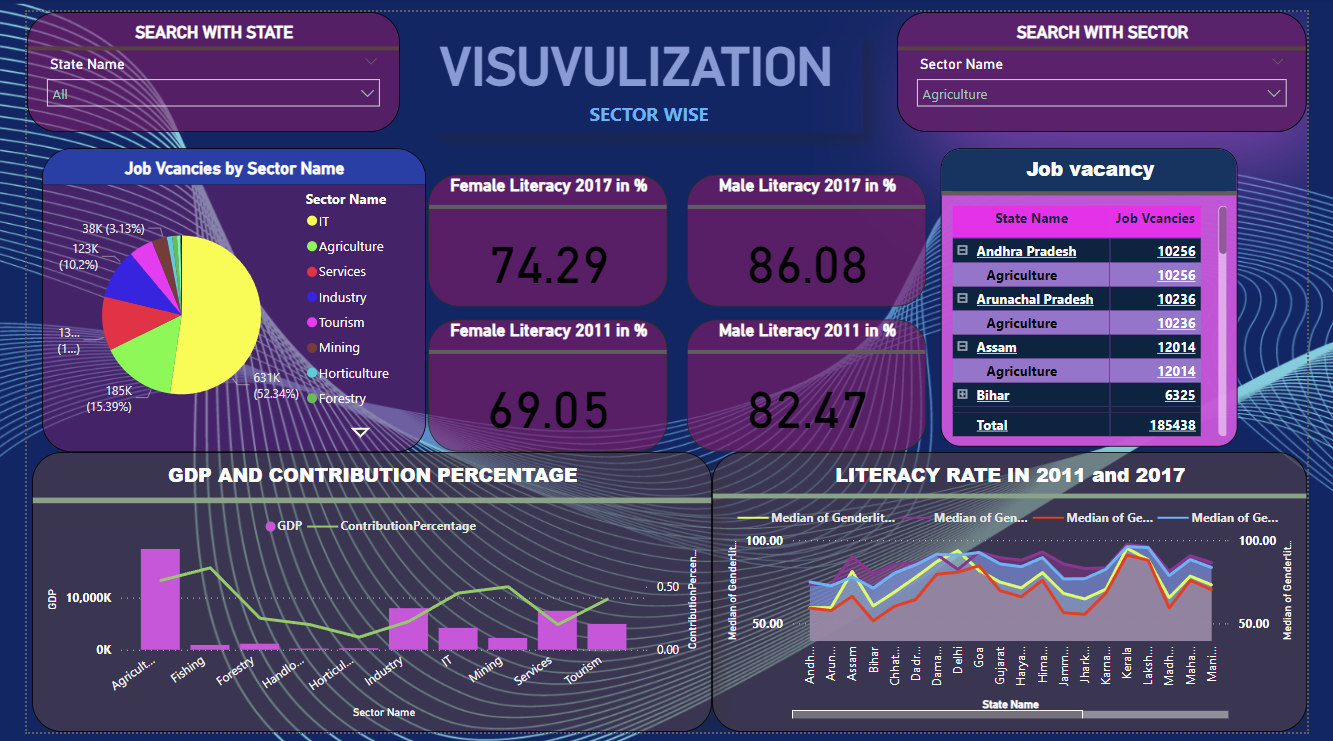

What the dashboard file says about the page in this screenshot:
{"tool":"powerbi","page":{"name":"Page 2","canvas":[1280,720],"ordinal":1},"visuals":[{"type":"slicer","title":"SEARCH WITH STATE","fields":{"Values":["states.State Name"]},"box":[0,0,372.8,119.8],"z":0},{"type":"pieChart","title":"Job Vcancies by Sector Name","fields":{"Category":["sectors.Sector Name"],"Y":["Sum(Contribution.Job Vcancies)"]},"box":[14.7,135.7,383.8,304.4],"z":1000},{"type":"lineStackedColumnComboChart","title":"GDP AND CONTRIBUTION PERCENTAGE","fields":{"Y2":["Median(Contribution.ContributionPercentage)"],"Y":["Sum(Contribution.GDP)"],"Category":["sectors.Sector Name"]},"box":[4.9,440.1,679.7,279.9],"z":2000},{"type":"slicer","title":"SEARCH WITH SECTOR","fields":{"Values":["sectors.Sector Name"]},"box":[870.4,0,409.5,119.8],"z":3000},{"type":"areaChart","title":"LITERACY RATE IN 2011 and 2017","fields":{"Category":["states.State Name"],"Y":["Median(Contribution.Genderliteracy.F-2017)","Median(Contribution.Genderliteracy.M-2017)"],"Y2":["Median(Contribution.Genderliteracy.F-2011)","Median(Contribution.Genderliteracy.M-2011)"]},"box":[685,440,595,280],"z":4000},{"type":"pivotTable","title":"Job vacancy","fields":{"Rows":["states.State Name","sectors.Sector Name"],"Values":["Sum(Contribution (2).Job Vcancies)"]},"box":[914.4,135.7,297,298.3],"z":5000},{"type":"card","title":"Female Literacy 2011 in %","fields":{"Values":["Avg(Contribution.Genderliteracy.F-2011)"]},"box":[401,308,239.6,132],"z":6000},{"type":"card","title":"Male Literacy 2017 in %","fields":{"Values":["Median(Contribution.Genderliteracy.M-2017)"]},"box":[660.1,162.6,239.6,132],"z":7000},{"type":"card","title":"Female Literacy 2017 in %","fields":{"Values":["Median(Contribution.Genderliteracy.F-2017)"]},"box":[401,162.6,239.6,132],"z":8000},{"type":"card","title":"Male Literacy 2011 in %","fields":{"Values":["Median(Contribution.Genderliteracy.M-2011)"]},"box":[660.1,308,239.6,132],"z":9000},{"type":"textbox","title":"VISUVULIZATION","box":[407.1,23.2,429.1,96.6],"z":10000}]}

Visuals, with their boxes in screenshot pixels (x1, y1, x2, y2), scaled from the page's 1280x720 canvas onto the 1333x741 screenshot:
"SEARCH WITH STATE" slicer: <box>0,0,388,123</box>
"Job Vcancies by Sector Name" pieChart: <box>15,140,415,453</box>
"GDP AND CONTRIBUTION PERCENTAGE" lineStackedColumnComboChart: <box>5,453,713,740</box>
"SEARCH WITH SECTOR" slicer: <box>906,0,1332,123</box>
"LITERACY RATE IN 2011 and 2017" areaChart: <box>713,453,1332,740</box>
"Job vacancy" pivotTable: <box>952,140,1262,447</box>
"Female Literacy 2011 in %" card: <box>418,317,667,453</box>
"Male Literacy 2017 in %" card: <box>687,167,937,303</box>
"Female Literacy 2017 in %" card: <box>418,167,667,303</box>
"Male Literacy 2011 in %" card: <box>687,317,937,453</box>
"VISUVULIZATION" textbox: <box>424,24,871,123</box>
